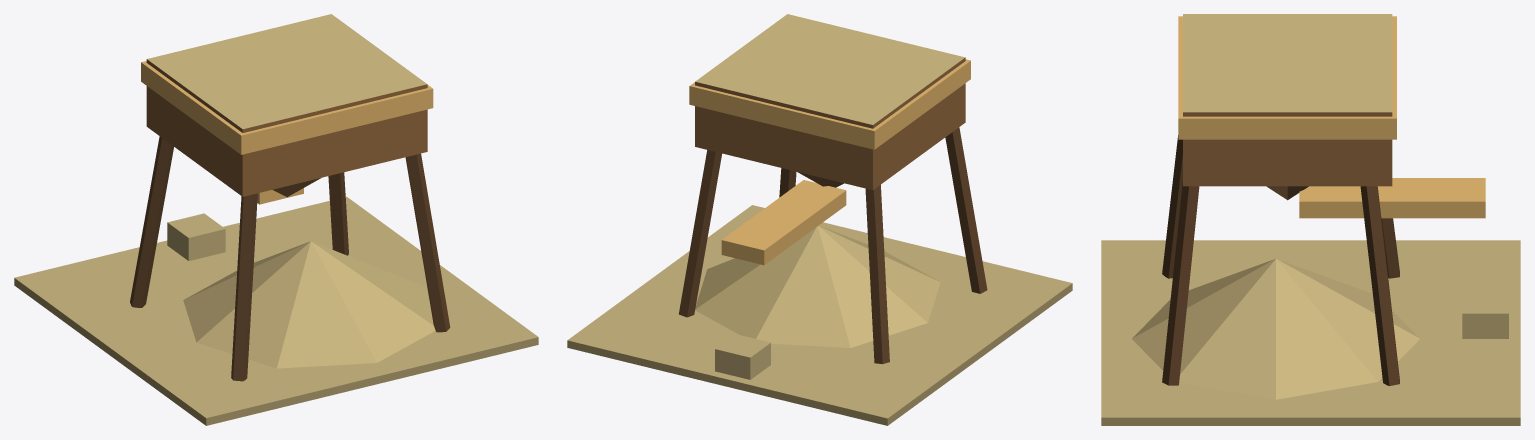
Rendered from sand_collector.glb.
The picture shows the model from 3 angles, left to right: view 1: azimuth 30°, elevation 25°; view 2: azimuth 150°, elevation 25°; view 3: azimuth 270°, elevation 25°; orthographic projection. The views are drawn at different scales.
Visible parts, largest first — view 1: sand_collector; view 2: sand_collector; view 3: sand_collector.
Boxes of the visible parts, left/top/right/bottom form: sand_collector: left=14, top=14, right=538, bottom=425; sand_collector: left=567, top=14, right=1072, bottom=425; sand_collector: left=1101, top=14, right=1520, bottom=425.
Bounding box in the file's own units: 1.8 × 1.3 × 1.8.
